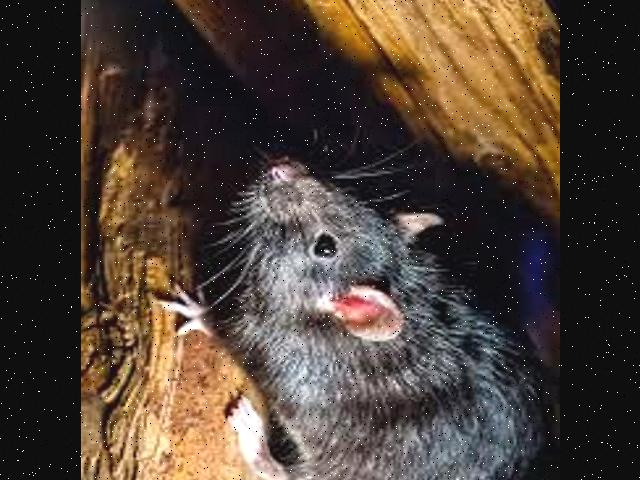Tikus: (164, 167, 548, 480)
